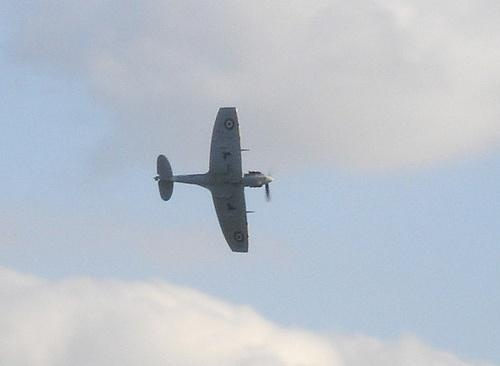aeroplane: (153, 106, 274, 255)
